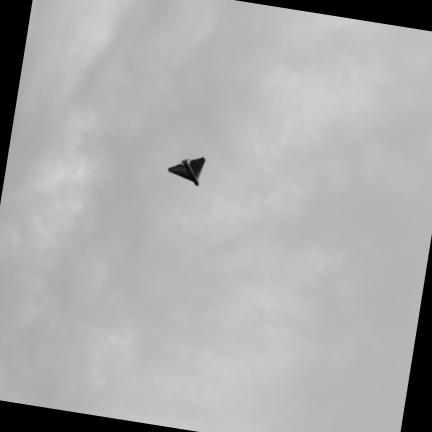Shahed: (168, 159, 204, 185)
